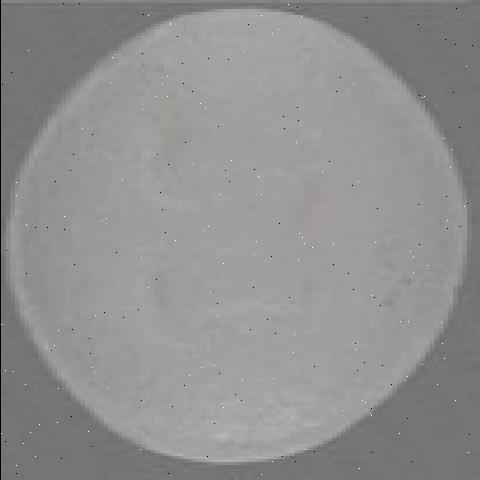Pill: (8, 1, 474, 478)
